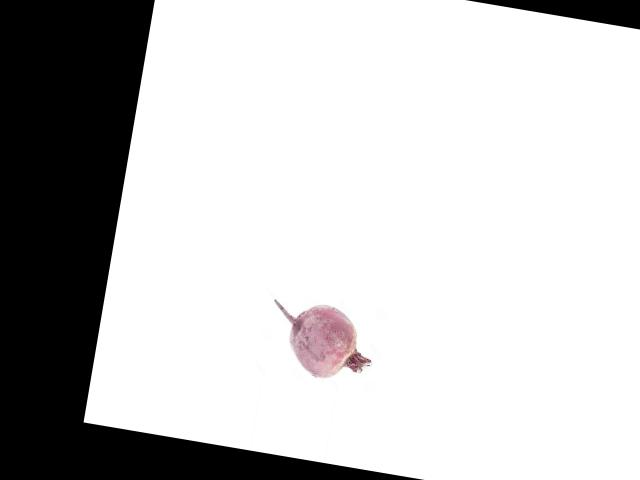beet: (264, 296, 379, 384)
